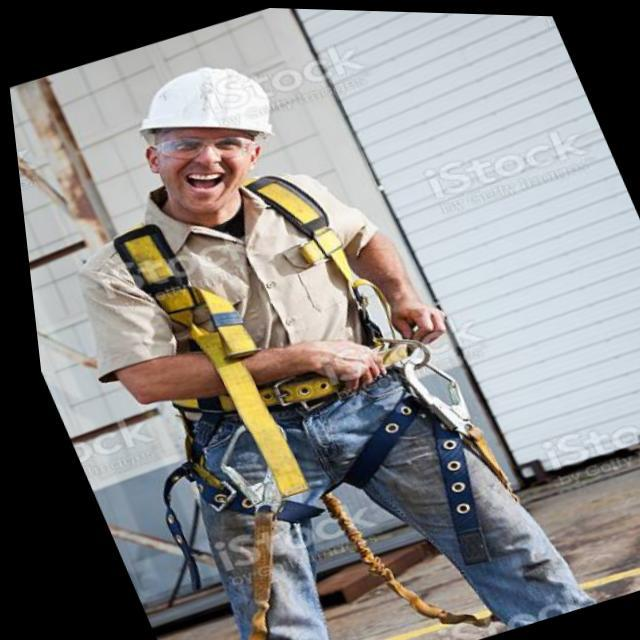belt: (32, 123, 514, 575)
